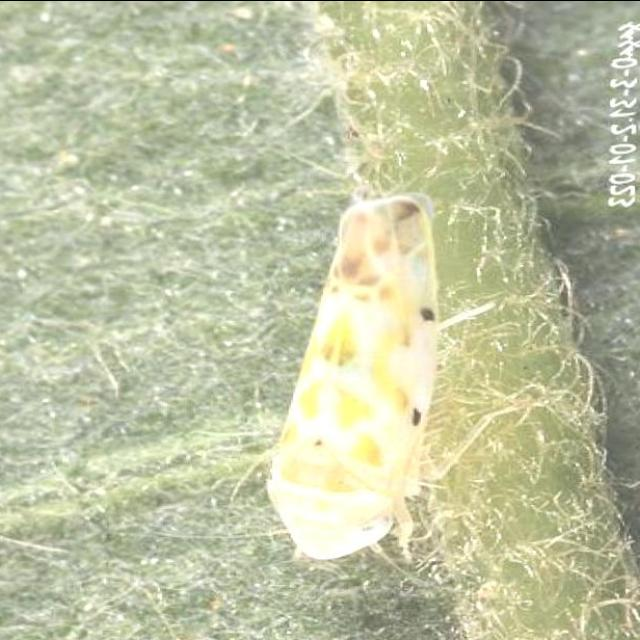green leaf hopper: (267, 192, 441, 558)
